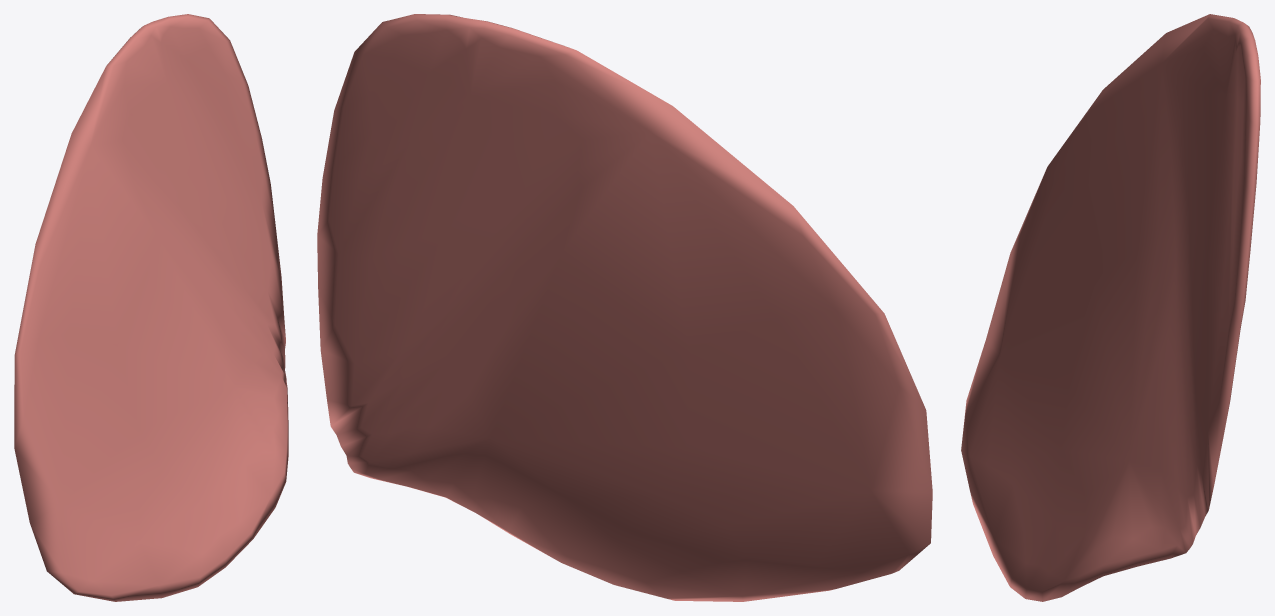
3 views of the same model, side by side, from view 1: azimuth 30°, elevation 25°; view 2: azimuth 150°, elevation 25°; view 3: azimuth 270°, elevation 25° (orthographic). The views are drawn at different scales.
Parts seen in each view (by area): view 1: ZA_47c7ba9d2f2443af; view 2: ZA_47c7ba9d2f2443af; view 3: ZA_47c7ba9d2f2443af.
Boxes of the visible parts, x1=… form: ZA_47c7ba9d2f2443af: x1=14, y1=14, x2=288, y2=601; ZA_47c7ba9d2f2443af: x1=317, y1=14, x2=932, y2=601; ZA_47c7ba9d2f2443af: x1=961, y1=14, x2=1260, y2=601.
Bounding box in the file's own units: 0.0148 × 0.0193 × 0.00888.
